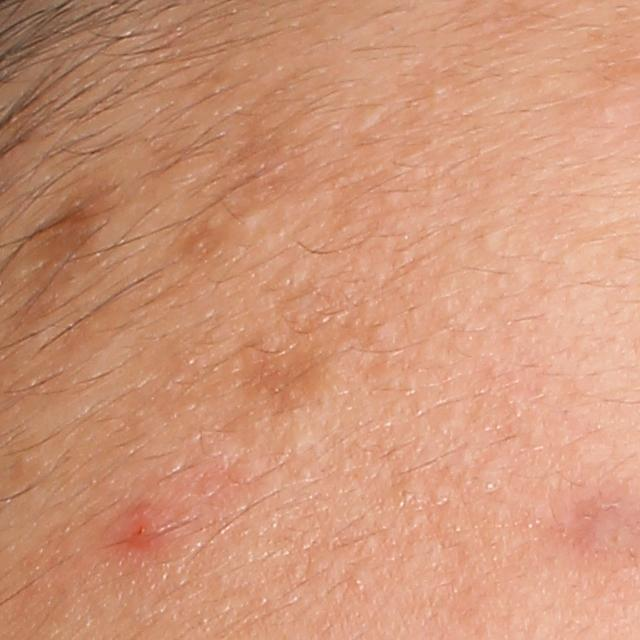comedo: (231, 210, 261, 240)
papule: (113, 503, 170, 554)
